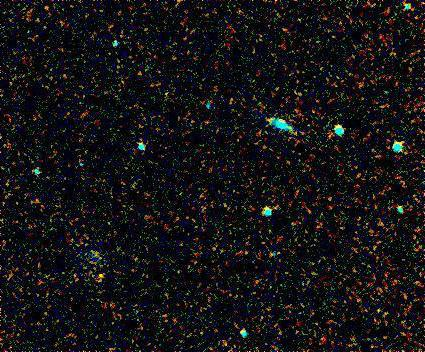star: (89, 265, 119, 295)
